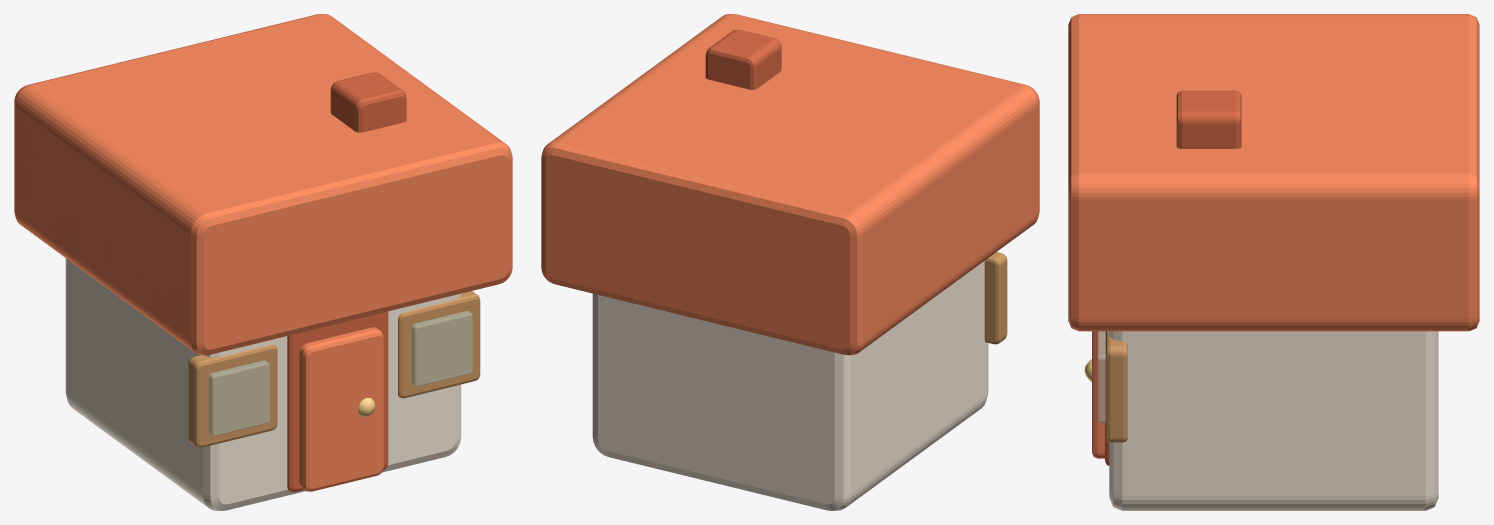
File: house.glb
The picture shows the model from 3 angles, left to right: view 1: azimuth 30°, elevation 25°; view 2: azimuth 150°, elevation 25°; view 3: azimuth 270°, elevation 25°; orthographic projection. The views are drawn at different scales.
Visible parts, largest first — view 1: Roof, Base, DoorPanel, WindowFrame_L, WindowFrame_R, Door, WindowGlass_L, WindowGlass_R, Chimney; view 2: Roof, Base, Chimney, WindowFrame_L; view 3: Roof, Base, Chimney, WindowFrame_R, DoorPanel, WindowGlass_R.
Boxes of the visible parts, bbox=[...] form: Roof: bbox=[14, 14, 512, 355]; Base: bbox=[65, 258, 461, 510]; DoorPanel: bbox=[299, 327, 383, 491]; WindowFrame_L: bbox=[188, 344, 277, 447]; WindowFrame_R: bbox=[398, 291, 480, 398]; Door: bbox=[287, 311, 388, 492]; WindowGlass_L: bbox=[208, 360, 269, 436]; WindowGlass_R: bbox=[411, 311, 472, 386]; Chimney: bbox=[330, 72, 406, 132]; Roof: bbox=[541, 14, 1039, 355]; Base: bbox=[592, 261, 988, 510]; Chimney: bbox=[705, 29, 781, 89]; WindowFrame_L: bbox=[984, 252, 1007, 344]; Roof: bbox=[1068, 14, 1479, 331]; Base: bbox=[1109, 331, 1438, 510]; Chimney: bbox=[1176, 90, 1241, 148]; WindowFrame_R: bbox=[1106, 331, 1127, 442]; DoorPanel: bbox=[1092, 331, 1104, 458]; WindowGlass_R: bbox=[1097, 331, 1105, 423].
Size of the model in its own units: 3.8 by 3.97 by 3.8.
